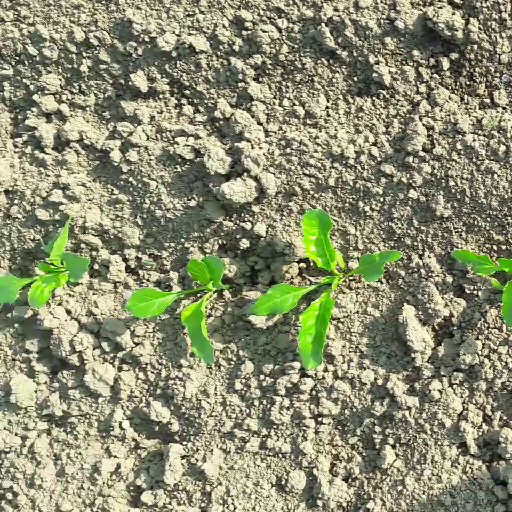sugarbeet: (241, 210, 407, 377), (123, 255, 238, 368), (1, 215, 93, 312), (446, 246, 512, 329)
